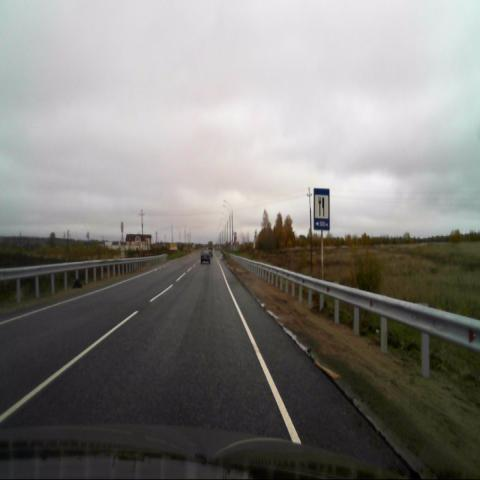7_7: (314, 187, 330, 230)
